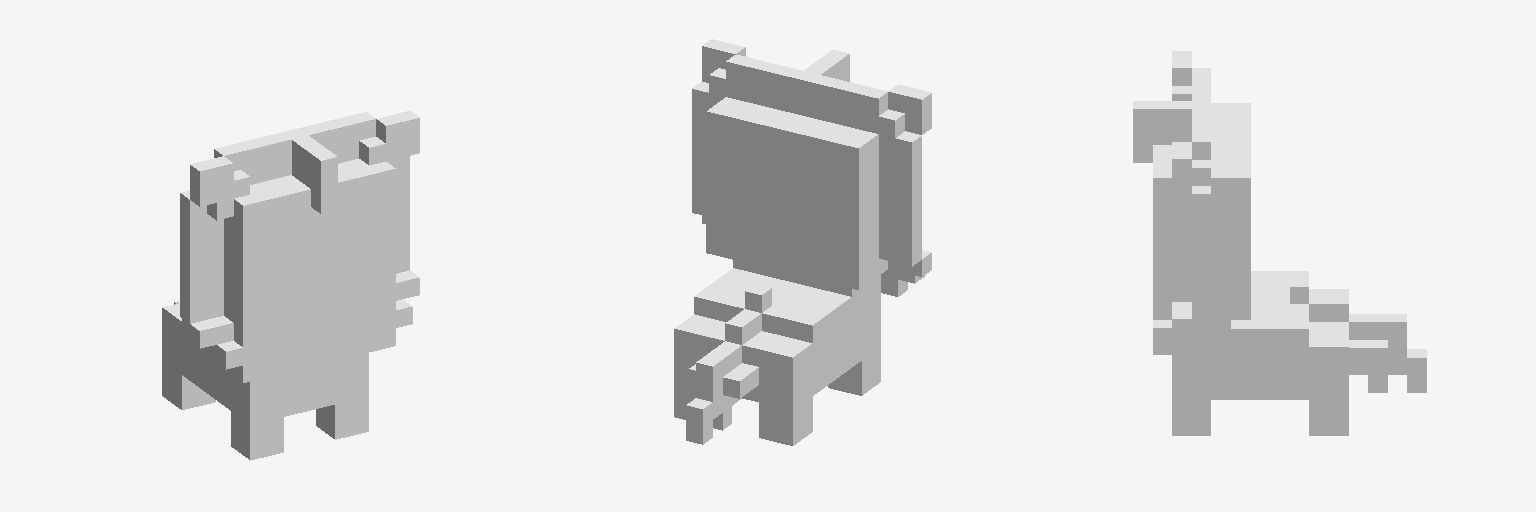
File: wateeveeMimindo.obj
3 views of the same model, side by side, from view 1: azimuth 30°, elevation 25°; view 2: azimuth 150°, elevation 25°; view 3: azimuth 270°, elevation 25° (orthographic).
Visible parts, largest first — view 1: object 1; view 2: object 1; view 3: object 1.
Boxes of the visible parts, <box> form: object 1: <box>162,111,419,460</box>; object 1: <box>674,39,931,445</box>; object 1: <box>1133,51,1426,435</box>.
Size of the model in its own units: 1.3 by 1.7 by 1.5.